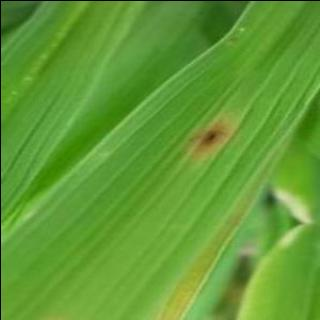bercak-Cokelat: (188, 115, 234, 160)
